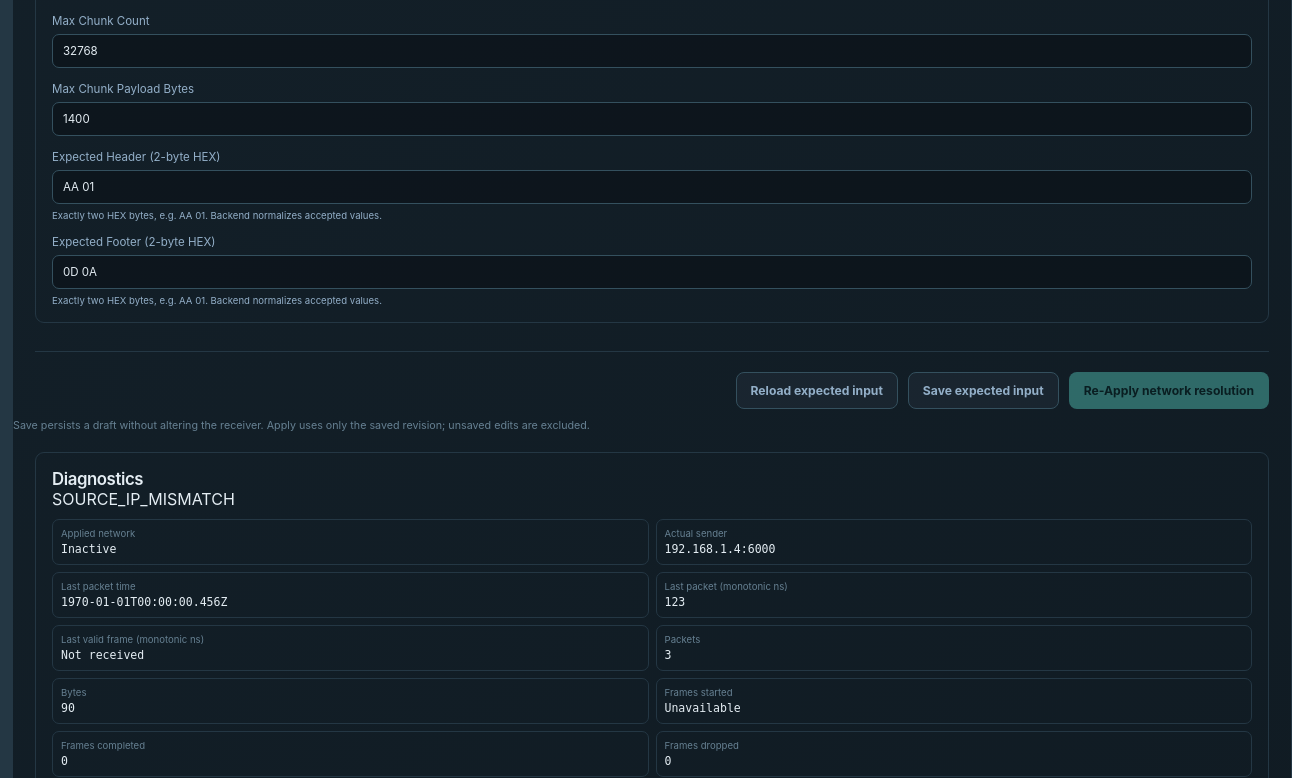
Test: Raspberry Pi flexible UDP network settings › renders authoritative nested validation errors
(page scrolled)
Step 1. Click the button "Save expected input" → click(983, 391), box [908,372,1059,409]
(page scrolled)
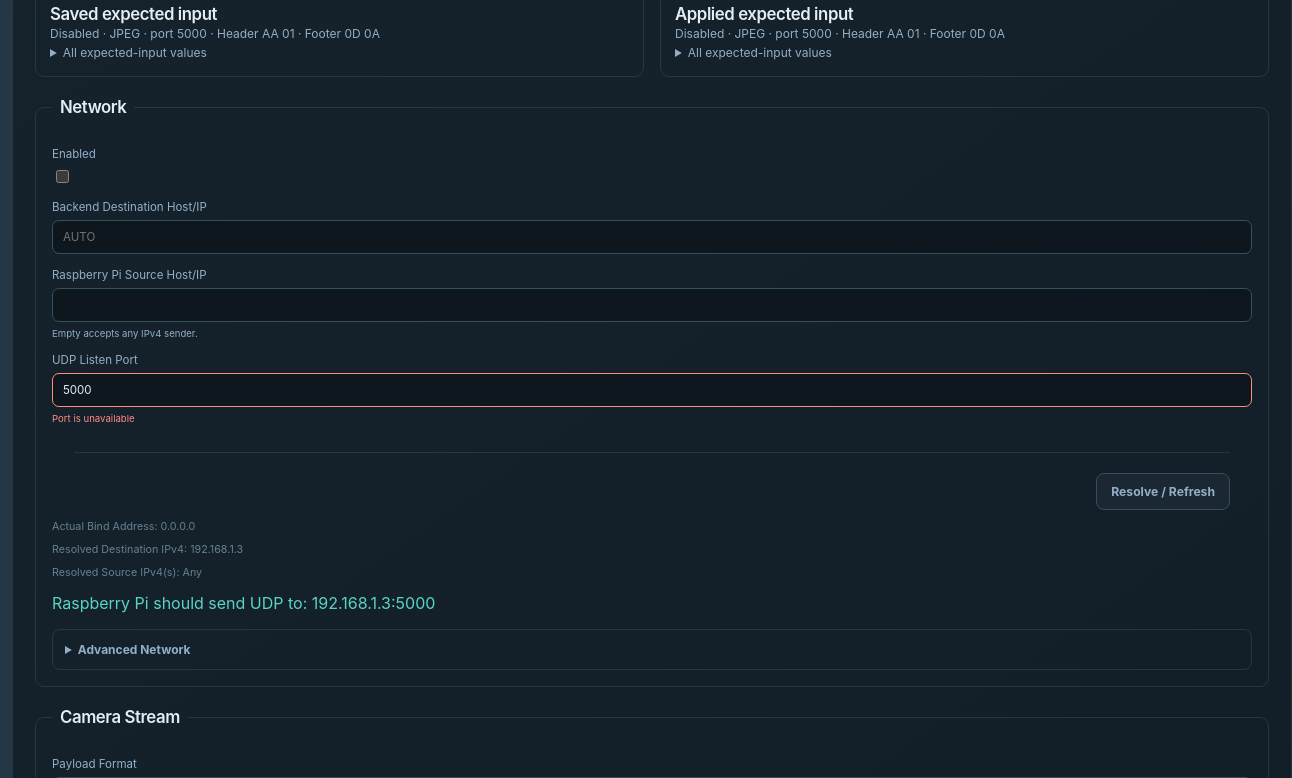
Expected: the text "Port is unavailable" is shown, [52,413,135,424]
